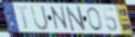5: (102, 7, 119, 33)
N: (65, 5, 88, 32), (49, 5, 71, 32)
O: (86, 7, 104, 33)
T: (15, 5, 30, 30)
U: (29, 4, 50, 32)
